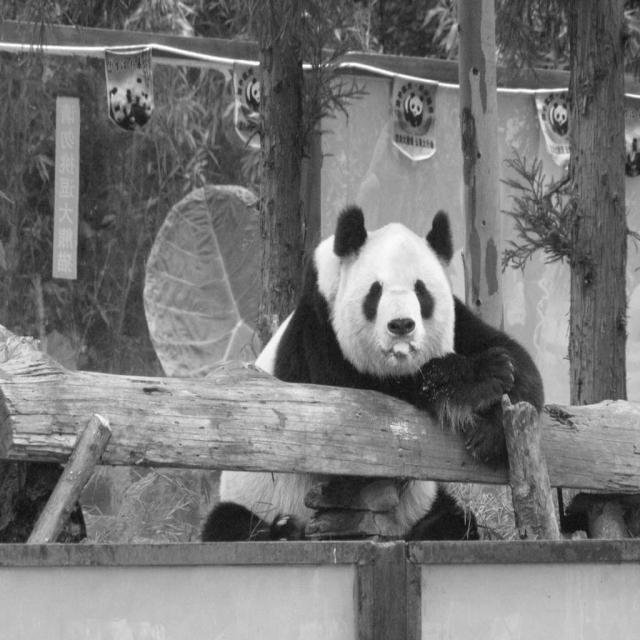panda: (199, 204, 547, 542)
